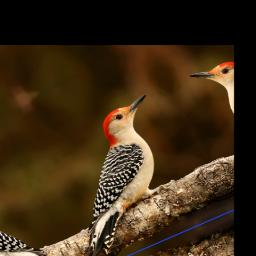Woodpecker: (19, 94, 210, 256)
